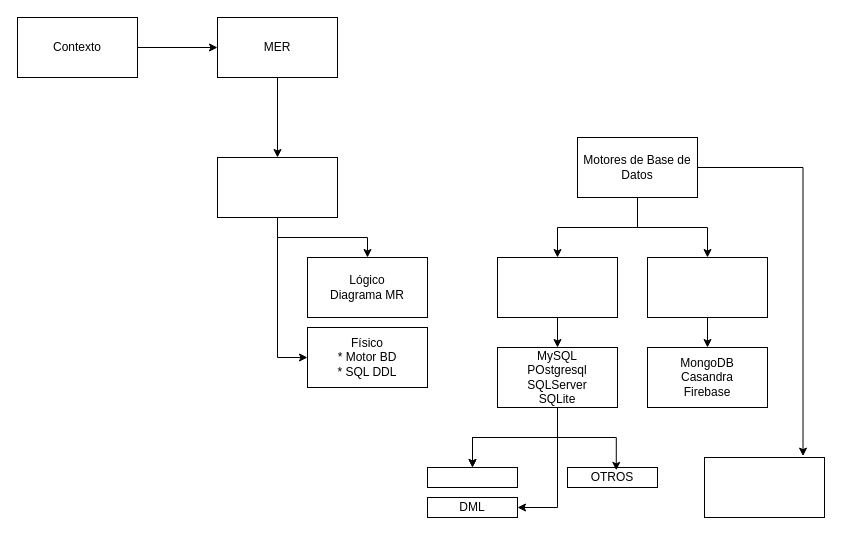
The diagram is 842 pixels wide and 535 high, and some of its shapes have lost their labels. Here are the shapes that lost their labels. From the top down, the box of each, then its label:
(216, 156, 338, 218): MR (Lógico -Físico)
(496, 256, 618, 318): SQL (Realacionales)
(646, 256, 768, 318): NOSql (No relacionales)
(426, 466, 518, 488): DDL
(704, 456, 824, 518): SMBD
